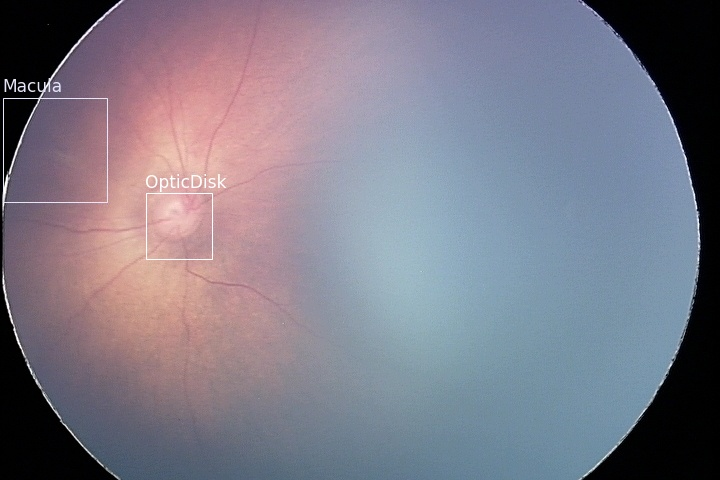Macula: (2, 97, 106, 201)
OpticDisk: (145, 192, 211, 258)
